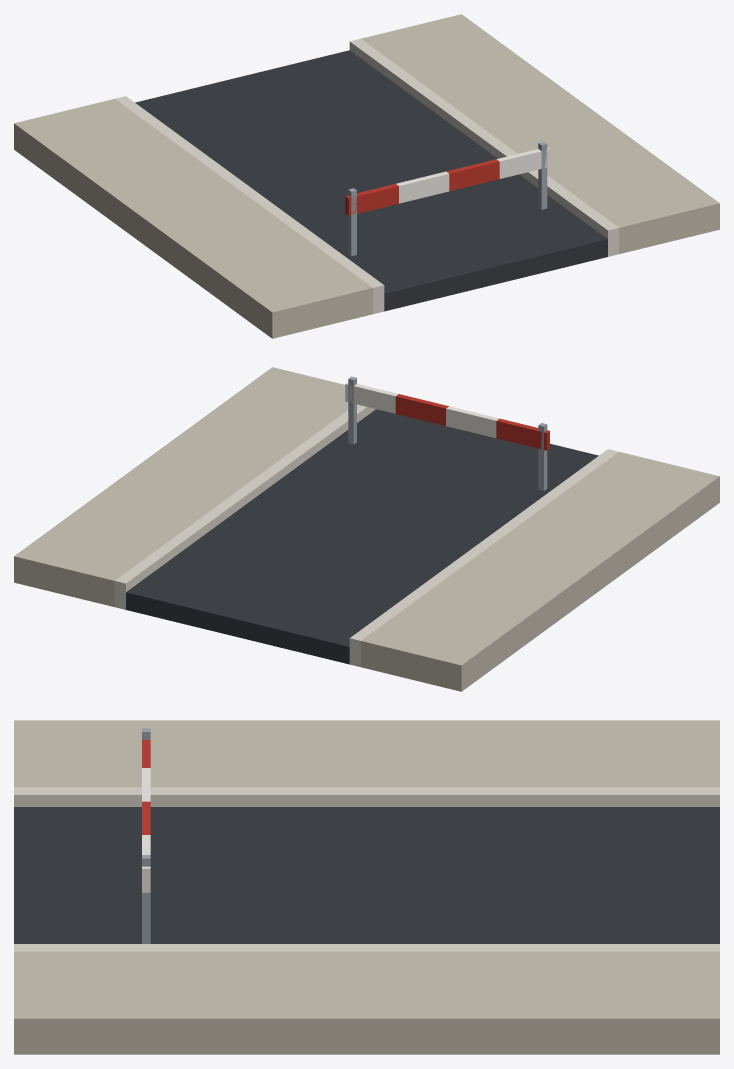
The model's file is Road_1Lane_Alley_Sidewalk_EndCap_Barrier.glb.
The picture shows the model from 3 angles, top to bottom: view 1: azimuth 30°, elevation 25°; view 2: azimuth 150°, elevation 25°; view 3: azimuth 270°, elevation 25°; orthographic projection. The views are drawn at different scales.
Visible parts, largest first — view 1: Road_1Lane_Alley_Sidewalk_EndCap_Barrier_Sidewalk, Road_1Lane_Alley_Sidewalk_EndCap_Barrier_Asphalt, Road_1Lane_Alley_Sidewalk_EndCap_Barrier_Curb, Road_1Lane_Alley_Sidewalk_EndCap_Barrier_SignRed, Road_1Lane_Alley_Sidewalk_EndCap_Barrier_PaintWhite, Road_1Lane_Alley_Sidewalk_EndCap_Barrier_Metal; view 2: Road_1Lane_Alley_Sidewalk_EndCap_Barrier_Sidewalk, Road_1Lane_Alley_Sidewalk_EndCap_Barrier_Asphalt, Road_1Lane_Alley_Sidewalk_EndCap_Barrier_Curb, Road_1Lane_Alley_Sidewalk_EndCap_Barrier_SignRed, Road_1Lane_Alley_Sidewalk_EndCap_Barrier_PaintWhite, Road_1Lane_Alley_Sidewalk_EndCap_Barrier_Metal; view 3: Road_1Lane_Alley_Sidewalk_EndCap_Barrier_Sidewalk, Road_1Lane_Alley_Sidewalk_EndCap_Barrier_Asphalt, Road_1Lane_Alley_Sidewalk_EndCap_Barrier_Curb, Road_1Lane_Alley_Sidewalk_EndCap_Barrier_PaintWhite, Road_1Lane_Alley_Sidewalk_EndCap_Barrier_Metal, Road_1Lane_Alley_Sidewalk_EndCap_Barrier_SignRed.
Part boxes in pixels (x1,y1,x2,y2): Road_1Lane_Alley_Sidewalk_EndCap_Barrier_Sidewalk: (14, 14, 719, 338); Road_1Lane_Alley_Sidewalk_EndCap_Barrier_Asphalt: (135, 50, 607, 311); Road_1Lane_Alley_Sidewalk_EndCap_Barrier_Curb: (115, 38, 619, 314); Road_1Lane_Alley_Sidewalk_EndCap_Barrier_SignRed: (345, 159, 499, 215); Road_1Lane_Alley_Sidewalk_EndCap_Barrier_PaintWhite: (396, 147, 549, 203); Road_1Lane_Alley_Sidewalk_EndCap_Barrier_Metal: (348, 142, 547, 256); Road_1Lane_Alley_Sidewalk_EndCap_Barrier_Sidewalk: (14, 367, 719, 691); Road_1Lane_Alley_Sidewalk_EndCap_Barrier_Asphalt: (126, 409, 598, 664); Road_1Lane_Alley_Sidewalk_EndCap_Barrier_Curb: (114, 404, 618, 667); Road_1Lane_Alley_Sidewalk_EndCap_Barrier_SignRed: (395, 394, 549, 450); Road_1Lane_Alley_Sidewalk_EndCap_Barrier_PaintWhite: (345, 382, 499, 438); Road_1Lane_Alley_Sidewalk_EndCap_Barrier_Metal: (348, 376, 547, 490); Road_1Lane_Alley_Sidewalk_EndCap_Barrier_Sidewalk: (14, 720, 719, 1054); Road_1Lane_Alley_Sidewalk_EndCap_Barrier_Asphalt: (14, 807, 719, 943); Road_1Lane_Alley_Sidewalk_EndCap_Barrier_Curb: (14, 787, 719, 951); Road_1Lane_Alley_Sidewalk_EndCap_Barrier_PaintWhite: (142, 768, 150, 892); Road_1Lane_Alley_Sidewalk_EndCap_Barrier_Metal: (142, 728, 150, 943); Road_1Lane_Alley_Sidewalk_EndCap_Barrier_SignRed: (142, 740, 150, 834).
Size of the model in its own units: 8 by 1.4 by 8.
